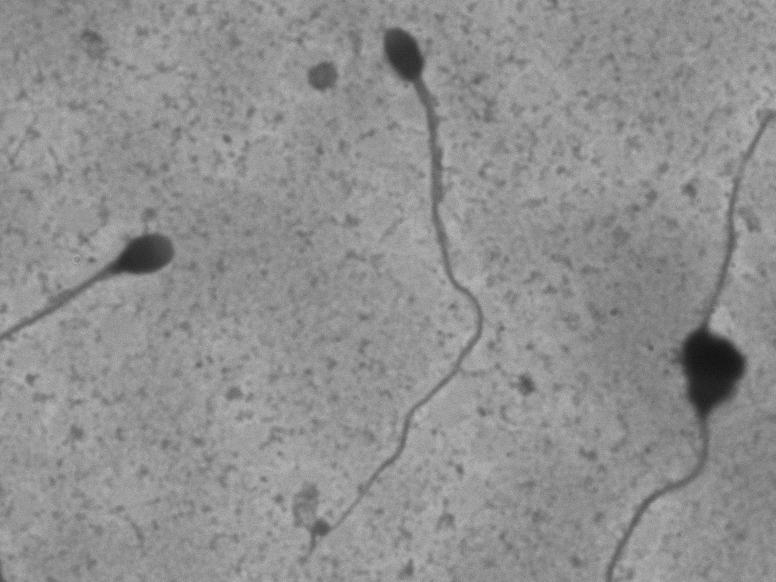Abnormal: (32, 180, 211, 372)
Normal: (299, 14, 498, 551)
